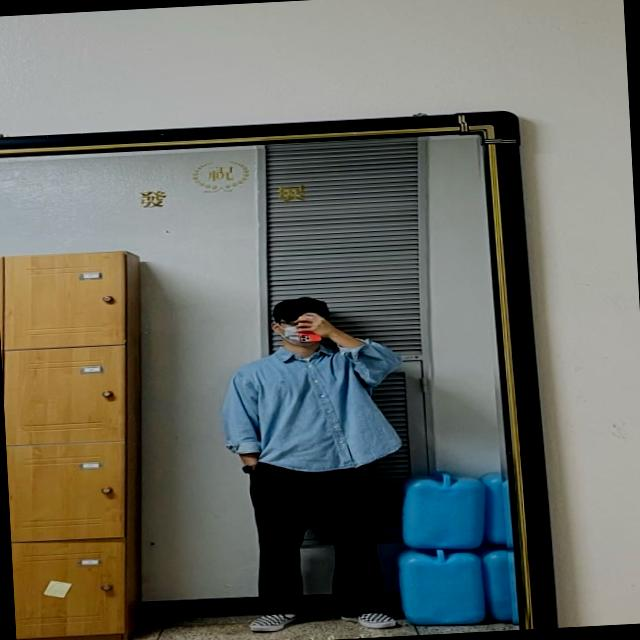shirt: (224, 339, 414, 479)
slacks: (248, 457, 388, 620)
